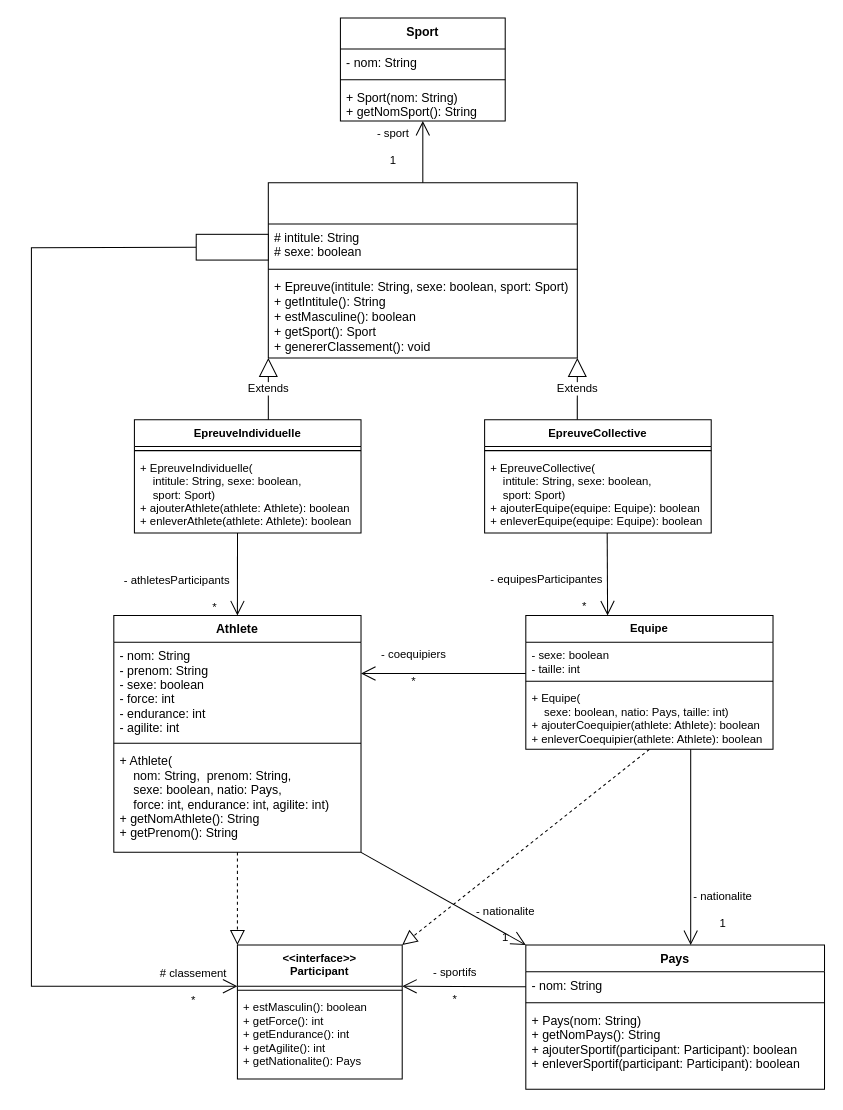
This 843x1110 diagram has some shape labels left out. The box of each missing label's shape, as (x1, y1, x2, y2) in pixels:
key: Integer: (195, 233, 268, 260)
{Abstract} Epreuve: (267, 182, 577, 358)
